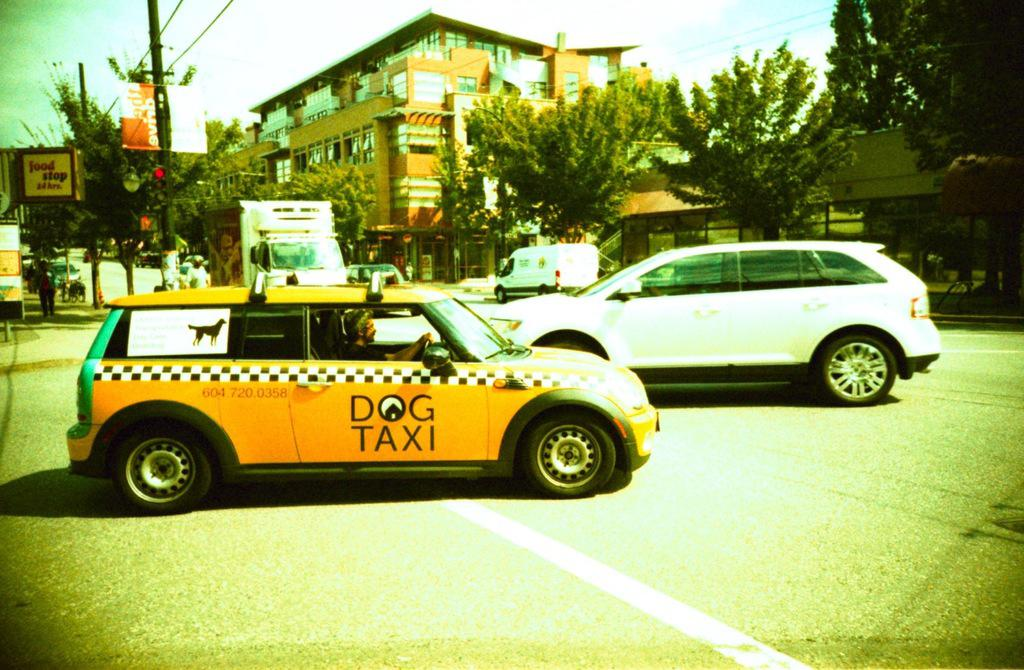taxi: (68, 244, 660, 517)
